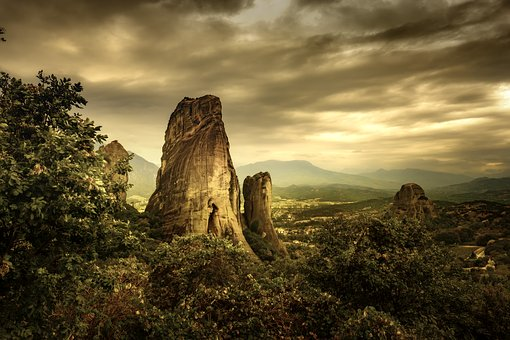forest: (229, 182, 501, 333)
sky: (14, 4, 490, 163)
stone: (156, 106, 250, 285)
tree: (7, 76, 136, 318)
